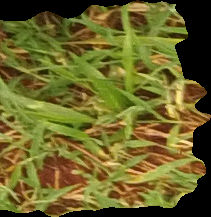grass: (2, 1, 209, 215)
